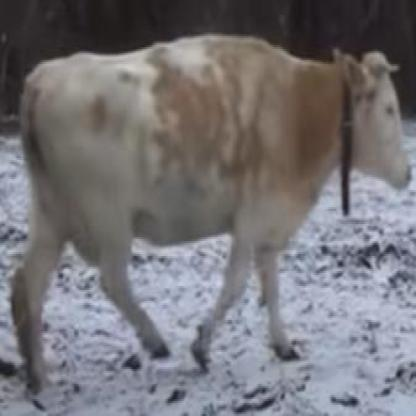cow: (18, 38, 413, 392)
